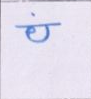anusvara: (31, 13, 35, 16)
